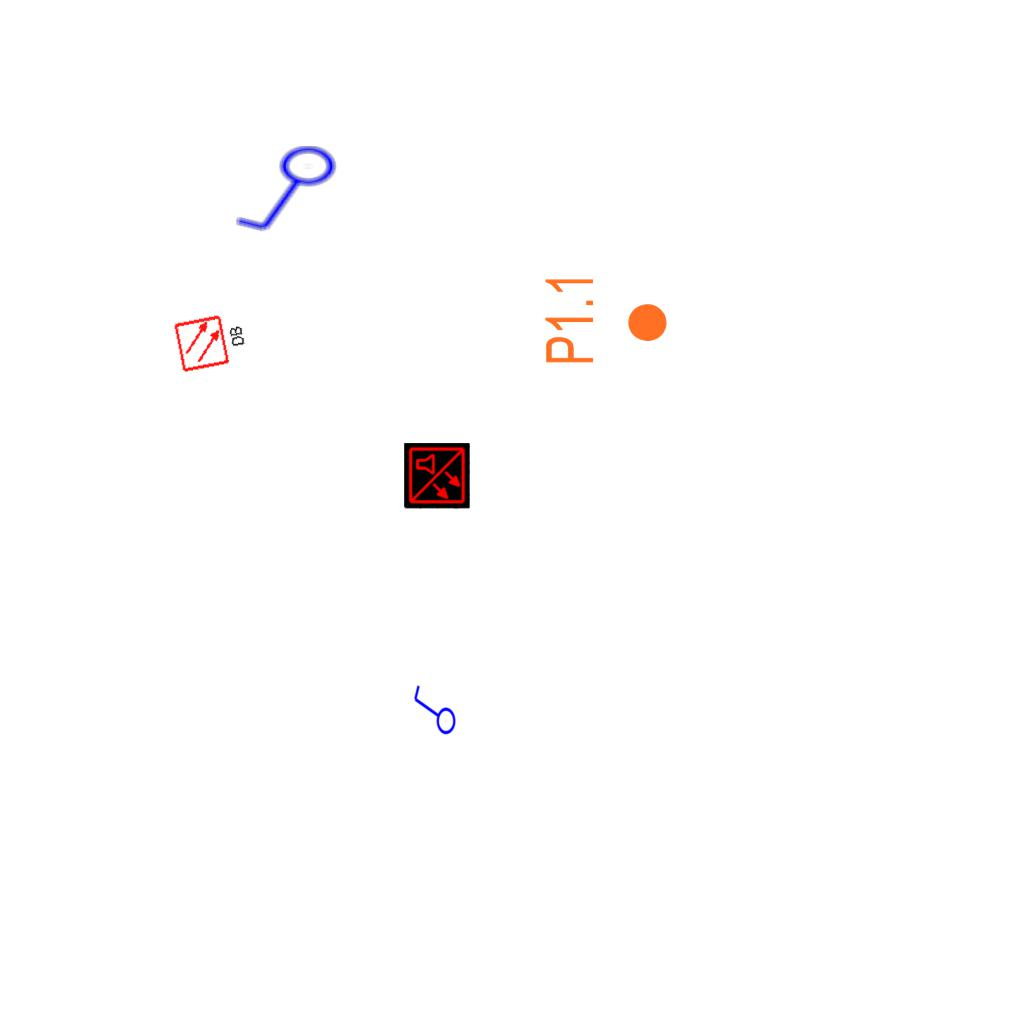Ausschalter: (234, 144, 346, 240), (409, 684, 457, 740)
DB_Melder_in_Doppelboden_mit_Revisionsoeffnung_mind_40_x_40_cm: (169, 305, 254, 377)
Downlight_LED_Einbauleuchten_Flur_2: (542, 273, 670, 366)
OKW_Multisensormelder_(Kombination_optischer_Rauch-Kahlenmonoxid_Waerme-Melder): (404, 443, 470, 509)
